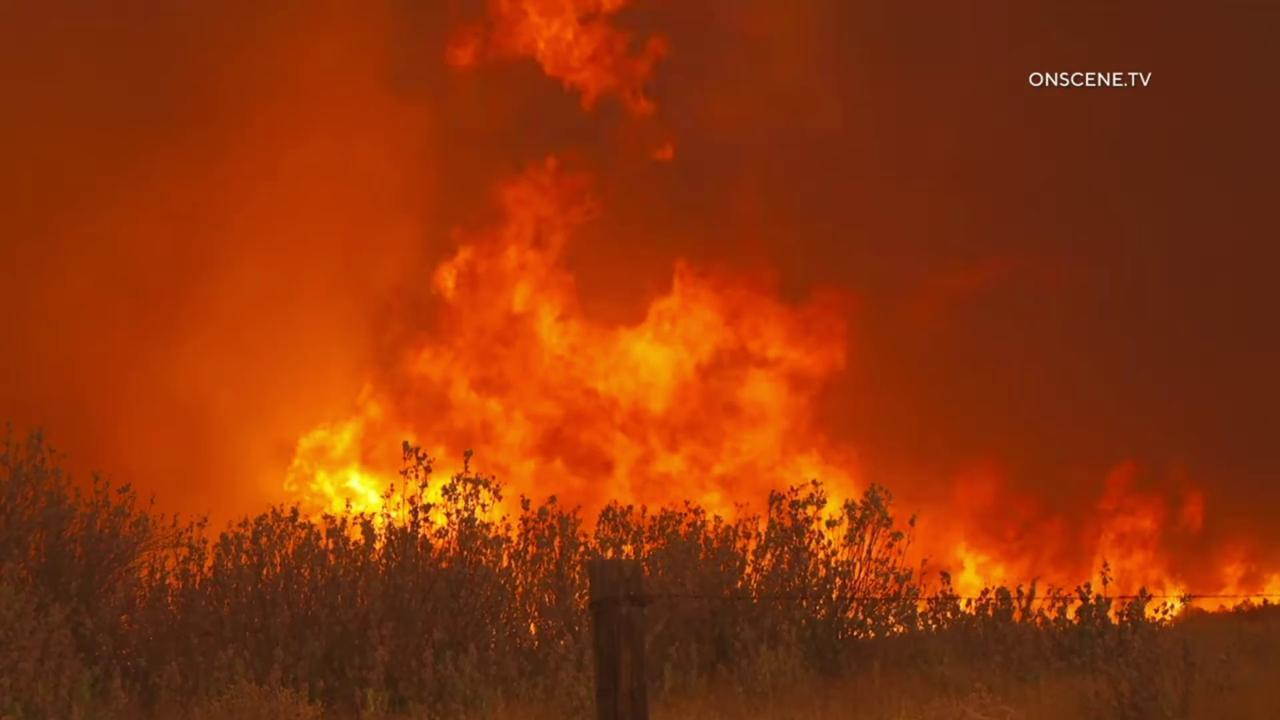fire: (274, 126, 873, 641), (875, 438, 1280, 631), (436, 0, 681, 124)
smoke: (0, 0, 1280, 634)
